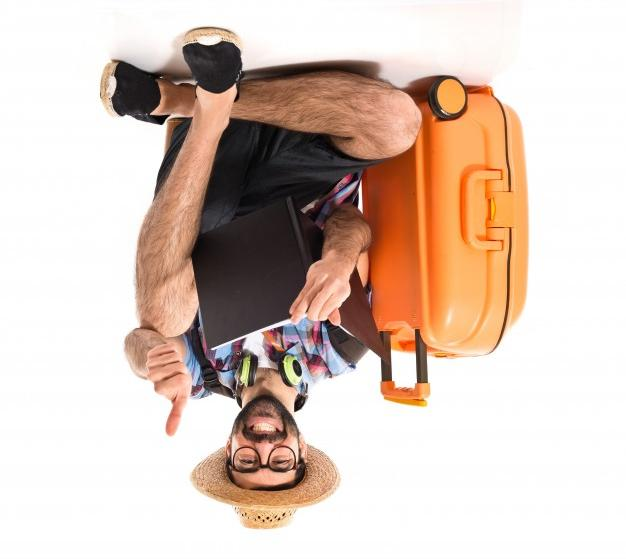thumbsdown: (145, 343, 190, 438)
